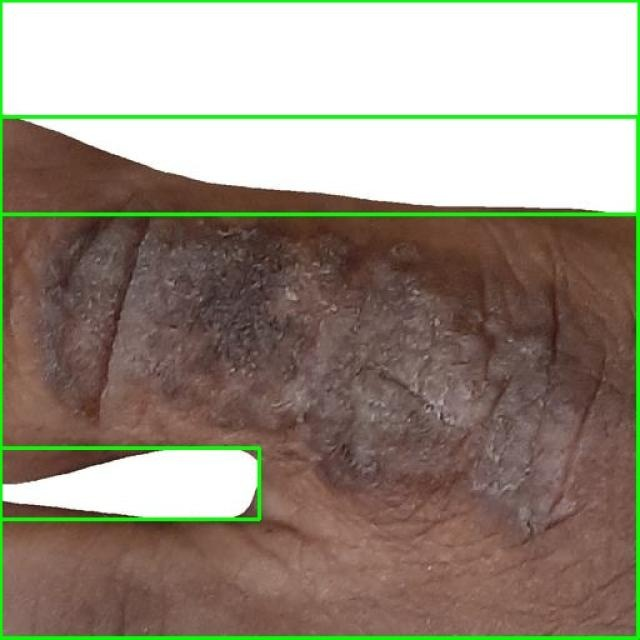Contact Dermatitis: (0, 116, 639, 639), (0, 0, 639, 214), (0, 448, 259, 519)
